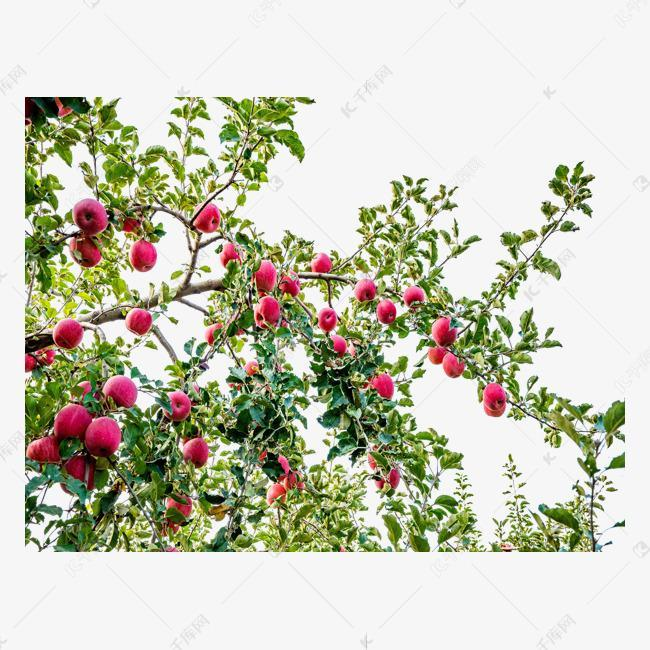apple: (83, 416, 120, 456), (54, 403, 91, 443), (73, 197, 108, 233), (103, 374, 137, 407), (52, 319, 84, 349), (192, 203, 222, 234), (129, 240, 157, 272), (163, 391, 190, 422), (182, 436, 209, 467), (254, 296, 280, 328), (253, 260, 276, 292), (125, 309, 152, 336), (431, 317, 457, 345), (72, 241, 101, 266), (483, 382, 506, 410), (443, 351, 465, 379), (376, 299, 398, 324), (370, 373, 391, 396), (405, 287, 424, 311), (318, 307, 337, 331), (312, 251, 332, 273)
